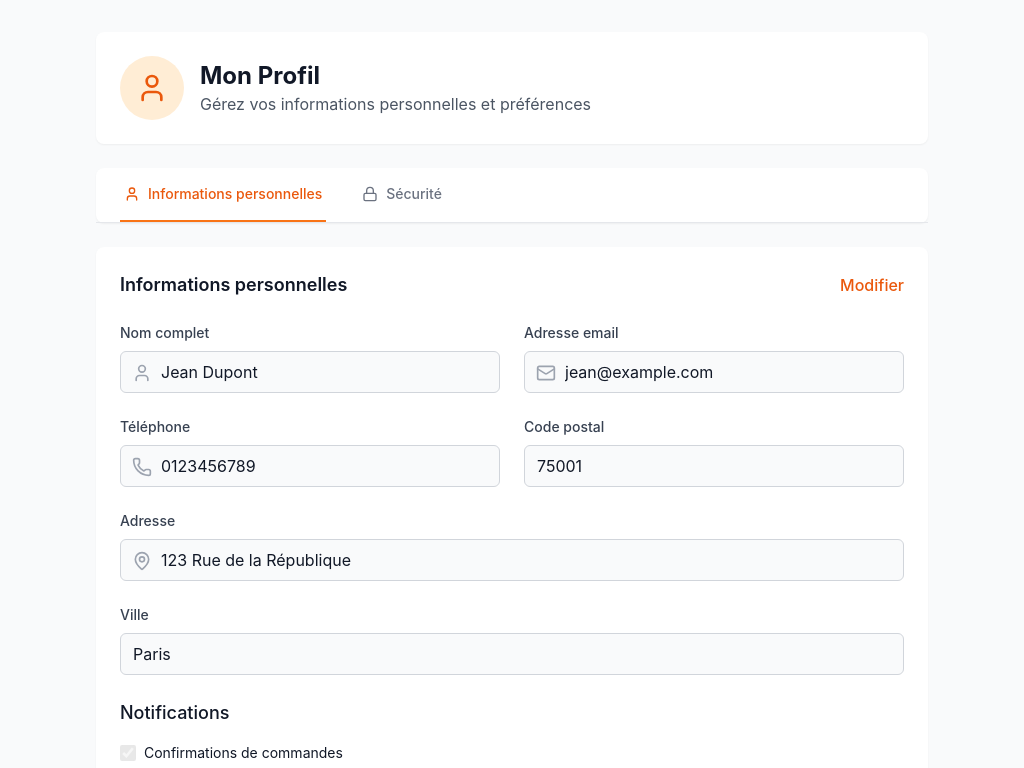
Profile Component › Personal Information Tab - Edit Mode › should show Save and Cancel buttons when editing and handle cancel correctly
This screenshot has width=1024, height=768.
Click the button "Modifier". click: coordinates (872, 285)
box: [840, 273, 904, 297]
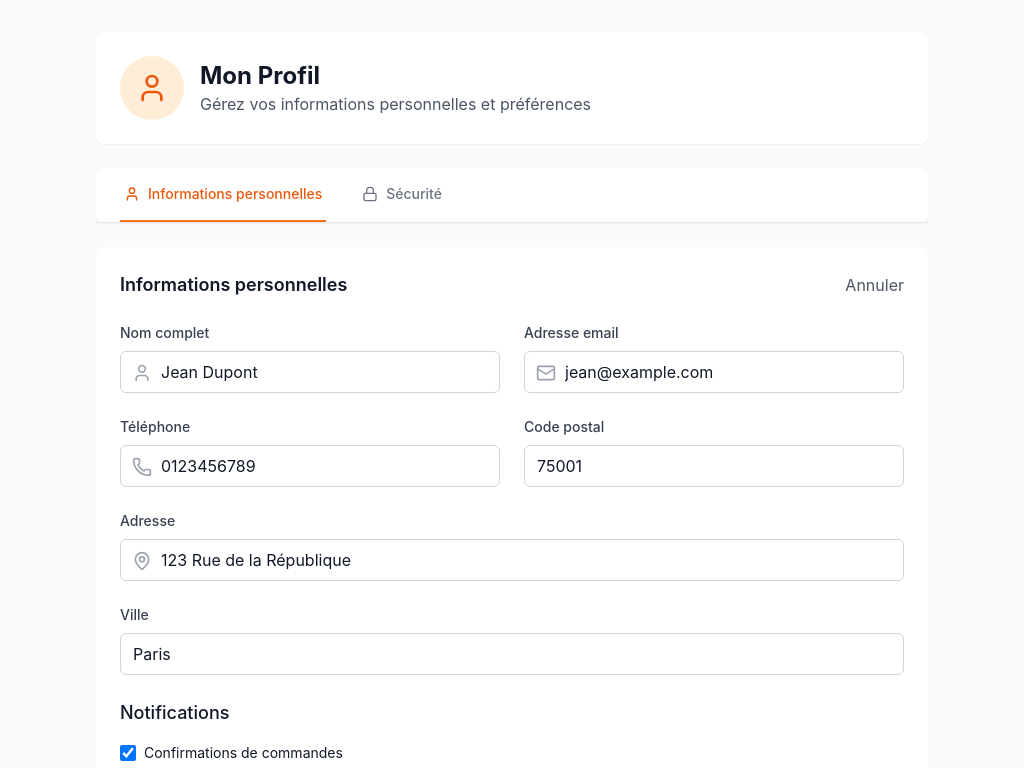
Now the button "Annuler" is shown
Note: Tester le bouton Annuler
Click the button "Annuler". click: coordinates (875, 285)
box: [845, 273, 904, 297]
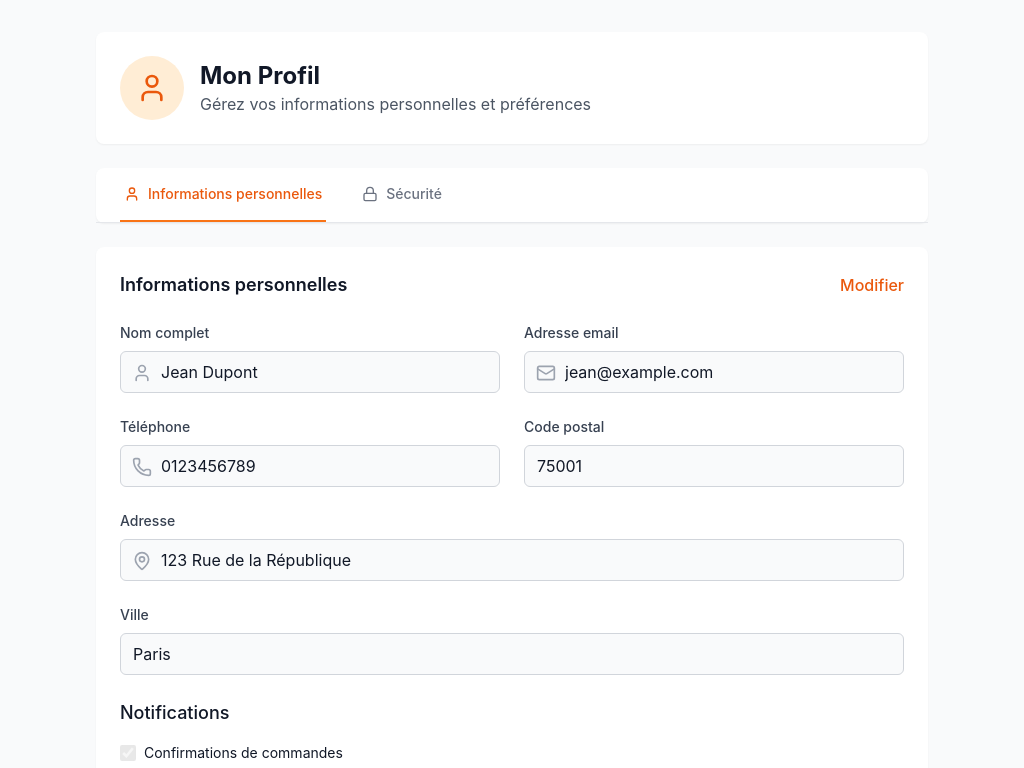
Now the button "Modifier" is shown, box [840, 273, 904, 297]
Now the button "Annuler" is gone
